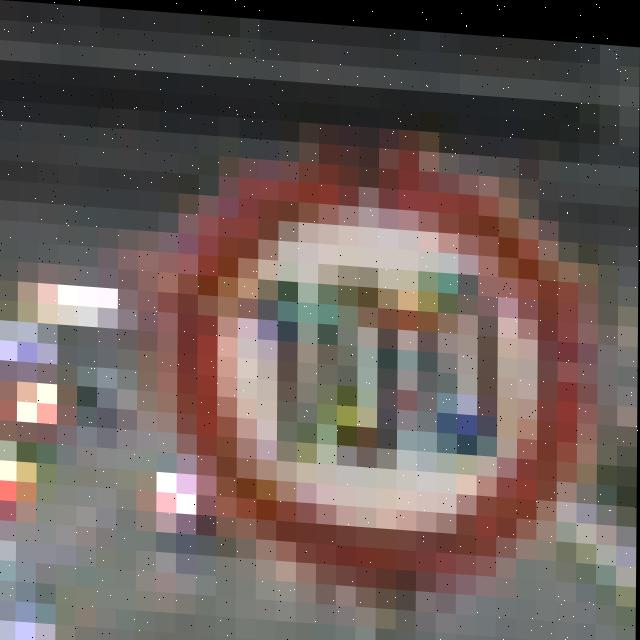speed_limit_100: (155, 173, 589, 600)
